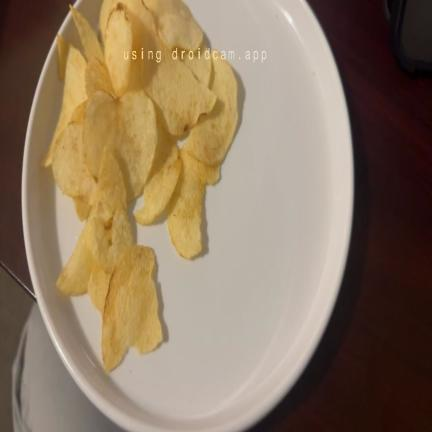chips: (43, 0, 237, 371), (57, 150, 132, 311), (84, 91, 157, 200), (143, 30, 217, 136), (102, 246, 162, 371), (184, 51, 238, 164), (167, 149, 219, 259), (42, 47, 86, 166), (116, 90, 157, 200), (135, 129, 181, 224), (52, 123, 96, 201), (88, 202, 132, 273), (144, 0, 203, 51), (84, 92, 119, 176), (105, 3, 132, 97), (57, 225, 93, 295), (94, 147, 126, 212), (70, 6, 103, 61), (183, 44, 212, 87), (88, 266, 111, 314), (86, 57, 113, 97), (99, 0, 116, 44), (57, 35, 69, 80), (74, 197, 90, 221), (70, 101, 87, 123)
plate: (22, 0, 353, 430)
